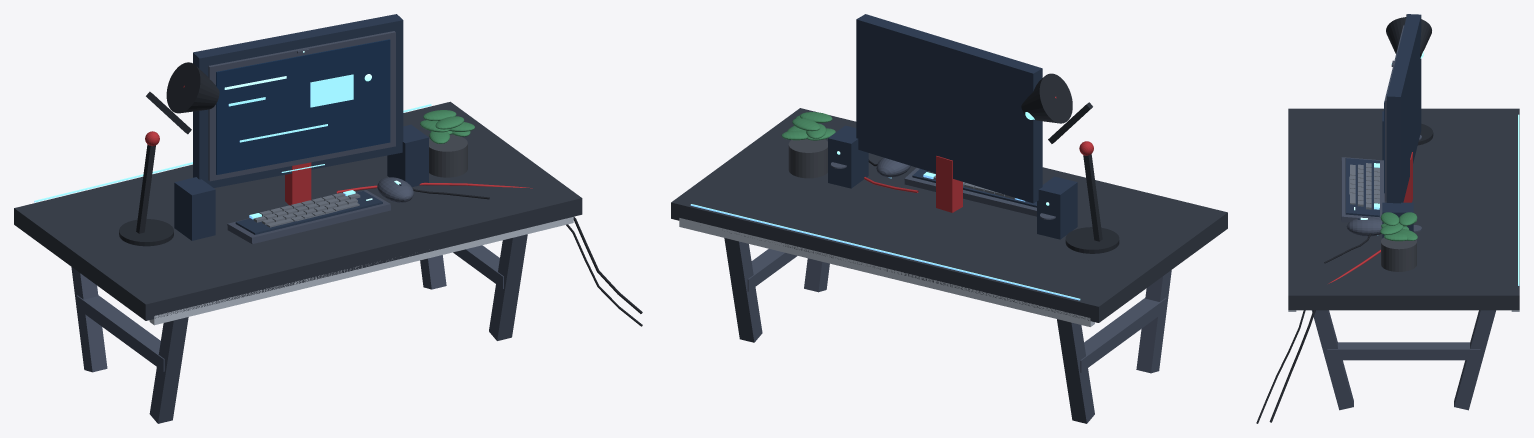
File: hero-workstation.glb
The picture shows the model from 3 angles, left to right: view 1: azimuth 30°, elevation 25°; view 2: azimuth 150°, elevation 25°; view 3: azimuth 270°, elevation 25°; orthographic projection. The views are drawn at different scales.
Visible parts, largest first — view 1: Desk, Monitor glass, Monitor housing, Monitor inner frame, Desk rear trim, Trestle rear leg, Trestle rear leg.001, Speaker -2.15, Trestle brace, Lamp shade, Speaker 2.15, Trestle front leg (+10 smaller); view 2: Desk, Monitor housing, Desk front trim, Trestle front leg, Trestle front leg.001, Trestle brace, Speaker -2.15, Speaker 2.15, Lamp shade, Trestle rear leg, Plant pot, Monitor neck (+6 smaller); view 3: Desk, Monitor housing, Trestle brace.001, Trestle front leg.001, Trestle rear leg.001, Plant pot, Keyboard top plate, Keyboard base, Lamp shade, Mouse shell, Monitor inner frame, Speaker 2.15 (+3 smaller).
Part boxes in pixels (x1,y1,x2,y2): Desk: [14, 101, 582, 320]; Monitor glass: [216, 39, 390, 174]; Monitor housing: [193, 14, 403, 187]; Monitor inner frame: [208, 31, 395, 181]; Desk rear trim: [149, 217, 573, 325]; Trestle rear leg: [149, 317, 188, 423]; Trestle rear leg.001: [489, 234, 527, 340]; Speaker -2.15: [174, 177, 215, 240]; Trestle brace: [76, 295, 164, 371]; Lamp shade: [166, 62, 219, 113]; Speaker 2.15: [387, 124, 428, 187]; Trestle front leg: [71, 267, 107, 372]; Desk: [671, 108, 1227, 322]; Monitor housing: [856, 14, 1042, 203]; Desk front trim: [679, 218, 1094, 326]; Trestle front leg: [1057, 319, 1094, 423]; Trestle front leg.001: [724, 238, 762, 342]; Trestle brace: [1080, 298, 1166, 372]; Speaker -2.15: [1037, 176, 1077, 239]; Speaker 2.15: [828, 125, 868, 188]; Lamp shade: [1021, 73, 1072, 123]; Trestle rear leg: [1136, 270, 1171, 373]; Plant pot: [788, 139, 827, 178]; Monitor neck: [936, 156, 962, 212]; Desk: [1288, 108, 1519, 310]; Monitor housing: [1386, 14, 1421, 203]; Trestle brace.001: [1327, 342, 1480, 360]; Trestle front leg.001: [1454, 310, 1495, 410]; Trestle rear leg.001: [1312, 310, 1353, 410]; Plant pot: [1381, 237, 1416, 271]; Keyboard top plate: [1345, 158, 1379, 217]; Keyboard base: [1341, 157, 1384, 222]; Lamp shade: [1386, 17, 1431, 57]; Mouse shell: [1346, 217, 1382, 236]; Monitor inner frame: [1384, 25, 1404, 200]; Speaker 2.15: [1382, 202, 1413, 238].
Size of the model in its own units: 9.82 by 6.12 by 5.24.
